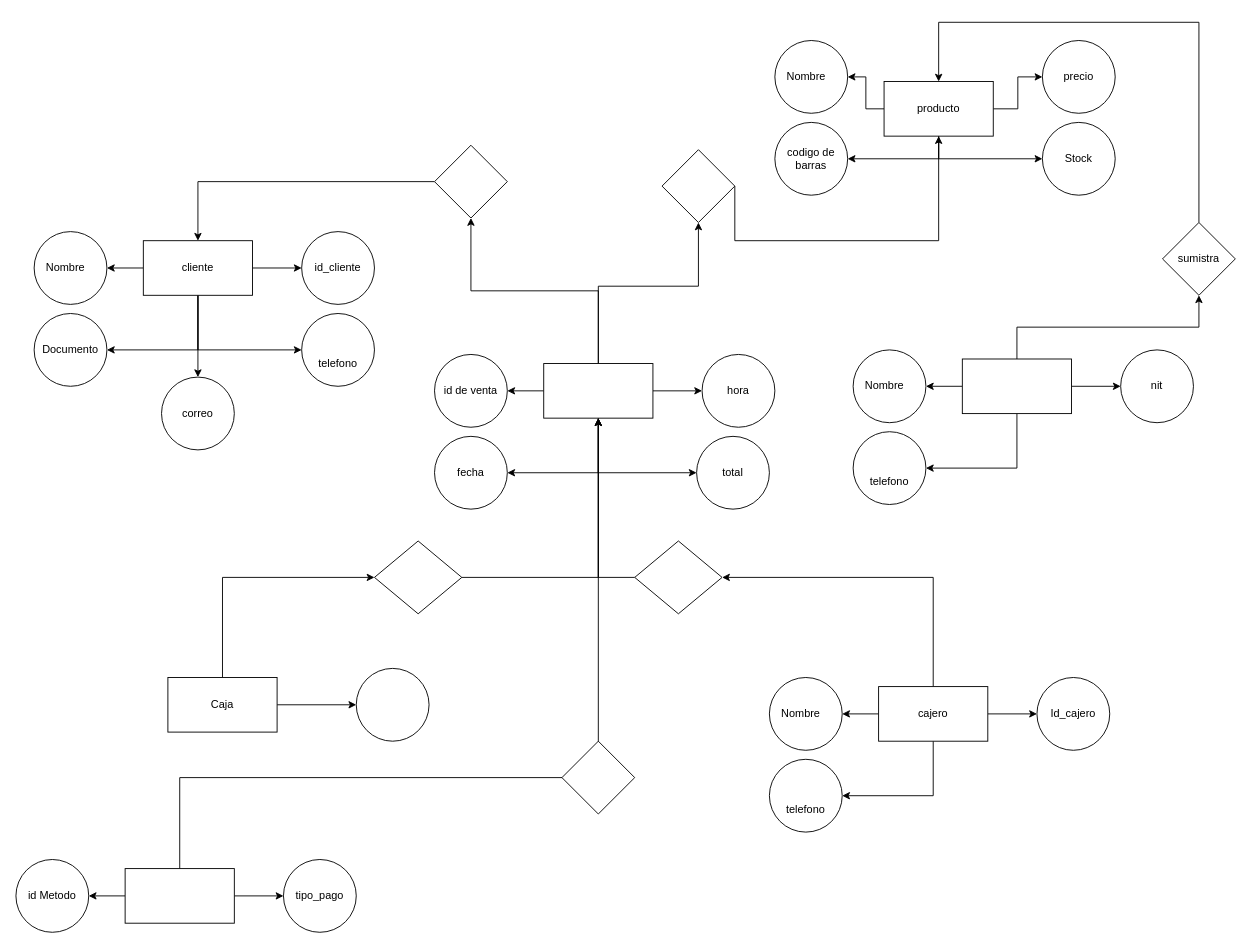
This 1251x948 diagram has some shape labels left out. The centre of each missing label's shape, as x and y in pixels:
Genera: point (470, 181)
Incluye: point (698, 185)
Metodo de Pago: point (179, 895)
Numero de caja: point (392, 704)
procesa: point (418, 577)
proveedor: point (1016, 386)
Registra: point (678, 577)
se usa: point (598, 777)
venta: point (598, 390)
